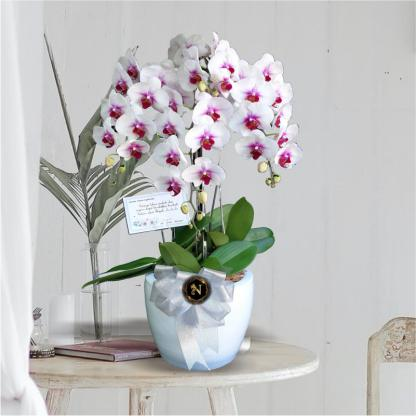ANGGREK: (75, 14, 345, 371)
